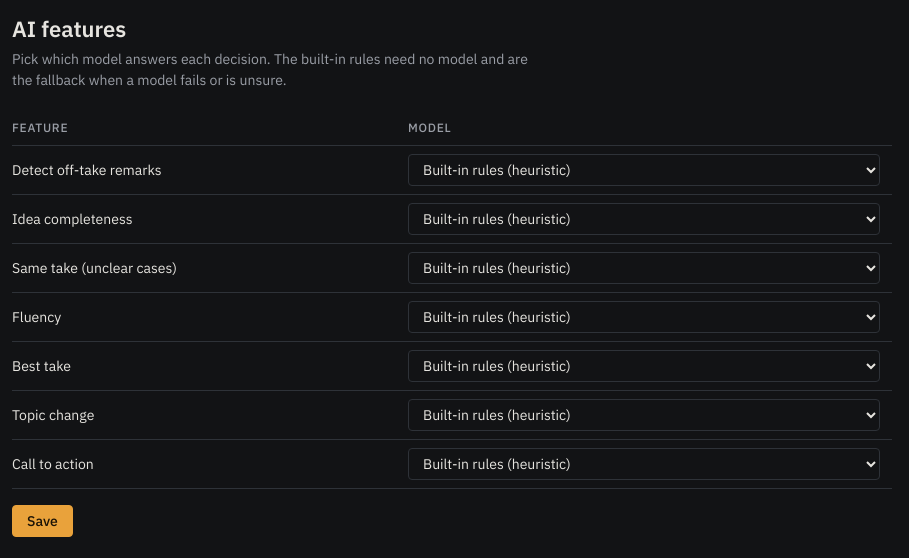
FeaturesScreen › assigns an enabled model to a feature and saves every feature
The image size is (909, 558).
Select "OpenAI · gpt-a" in the dropdown named "Best take" at (644, 366), box [408,350,880,382]
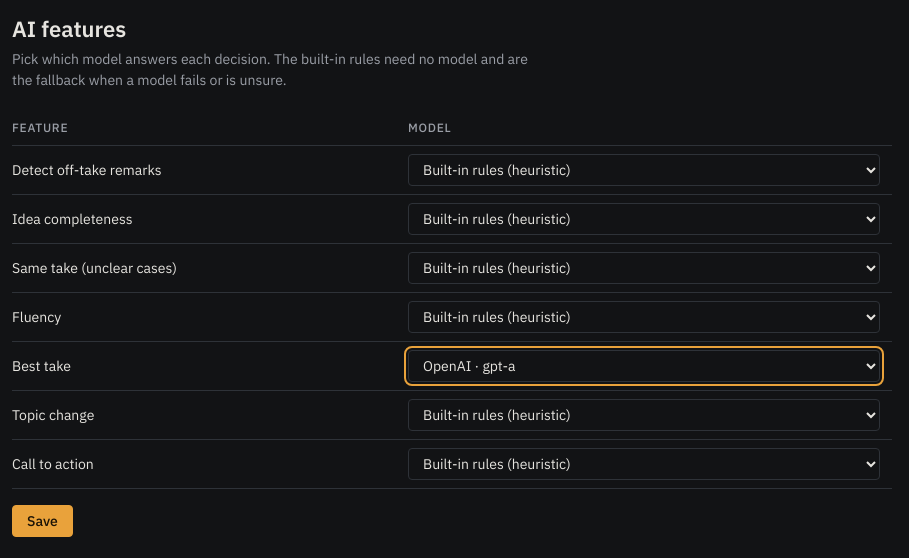
Click the button "Save" at (42, 521), box [12,505,73,537]
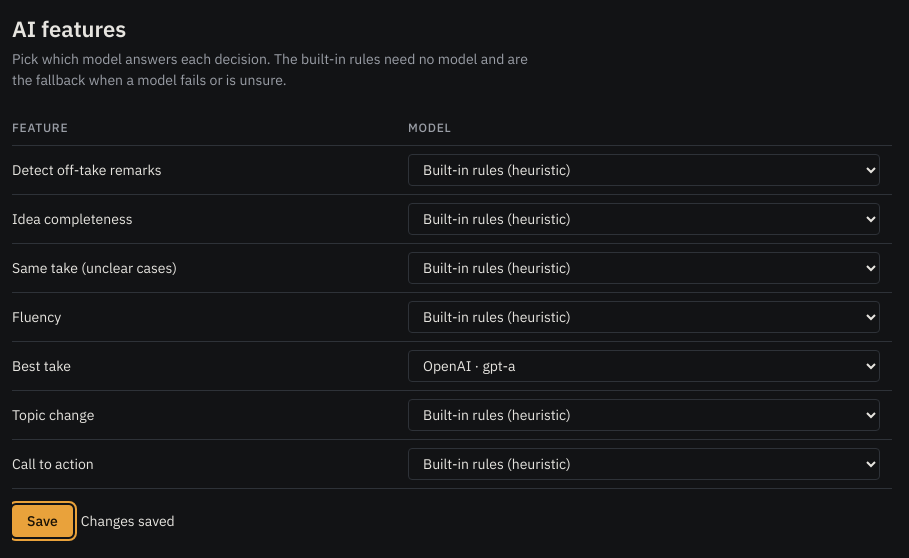
Check: the text "Changes saved" is shown, box [81,510,175,532]
